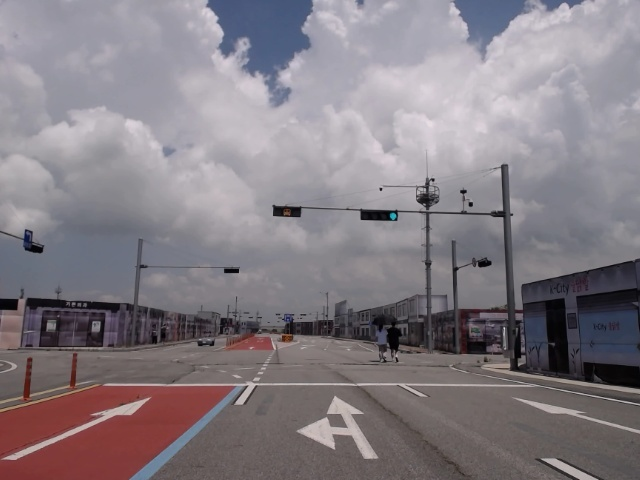straight_green_4: (360, 209, 399, 222)
